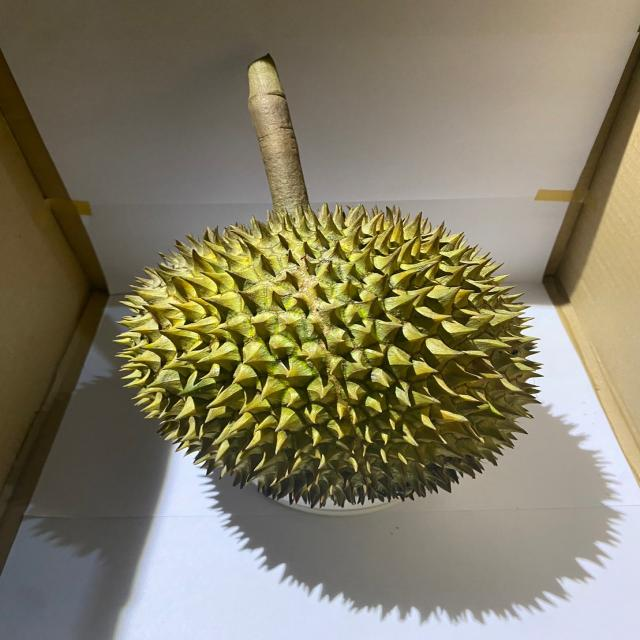immature: (112, 198, 550, 510)
